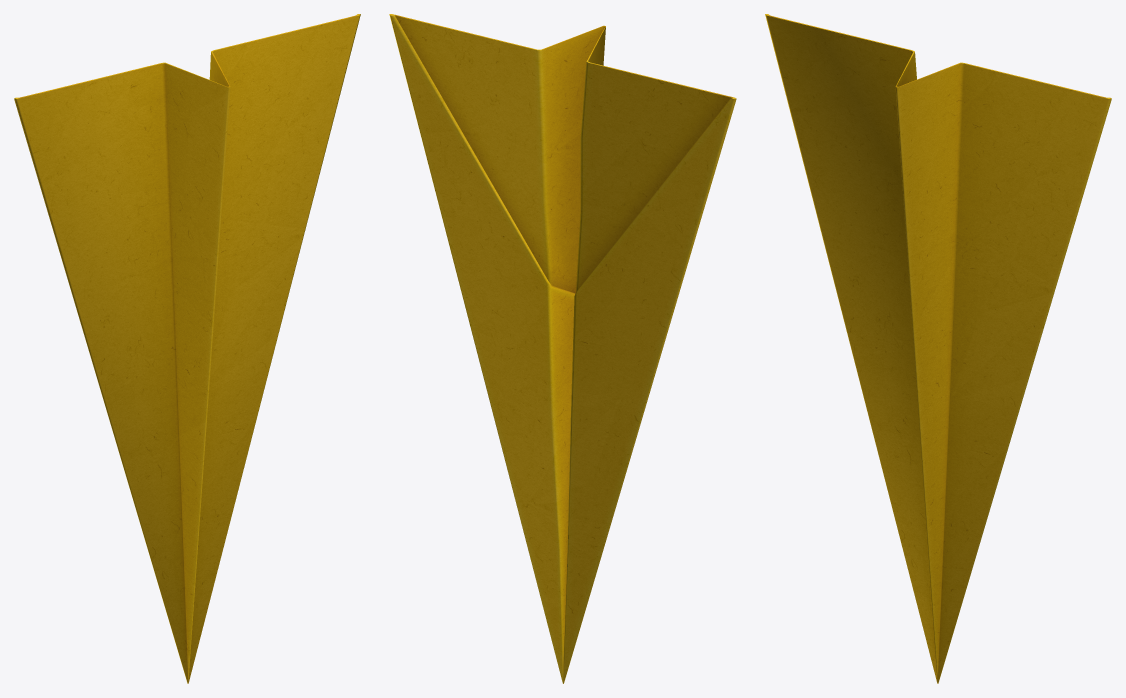
Rendered from hl_ramp_paper_medium.fbx.
The picture shows the model from 3 angles, left to right: view 1: azimuth 30°, elevation 25°; view 2: azimuth 150°, elevation 25°; view 3: azimuth 330°, elevation 25°; orthographic projection.
Parts seen in each view (by area): view 1: hl_ramp_paper_medium; view 2: hl_ramp_paper_medium; view 3: hl_ramp_paper_medium.
Boxes of the visible parts, <box> form: hl_ramp_paper_medium: <box>14,14,360,683</box>; hl_ramp_paper_medium: <box>389,14,736,683</box>; hl_ramp_paper_medium: <box>765,14,1111,683</box>.
Bounding box in the file's own units: 32.27 × 55.74 × 7.17.
